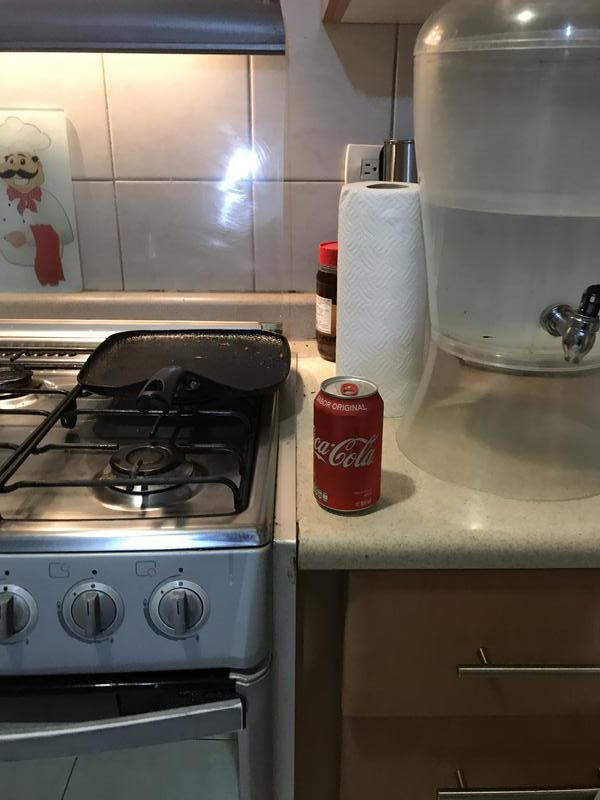coca_cola: (311, 375, 385, 518)
